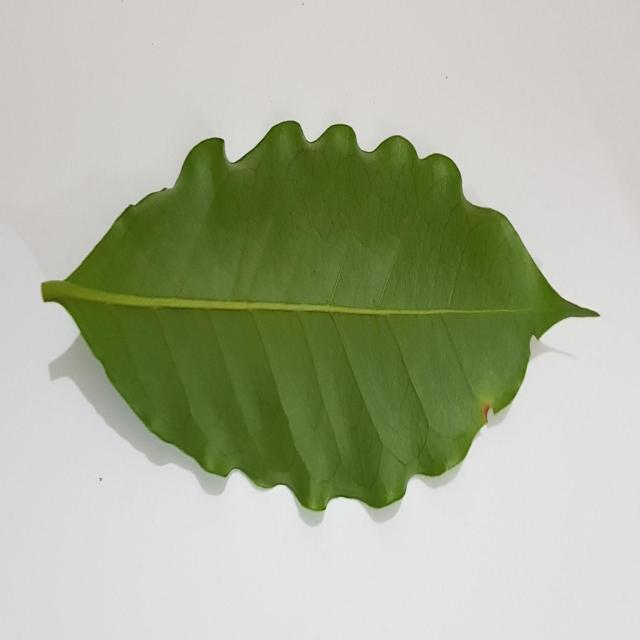nodisease: (42, 121, 598, 511)
